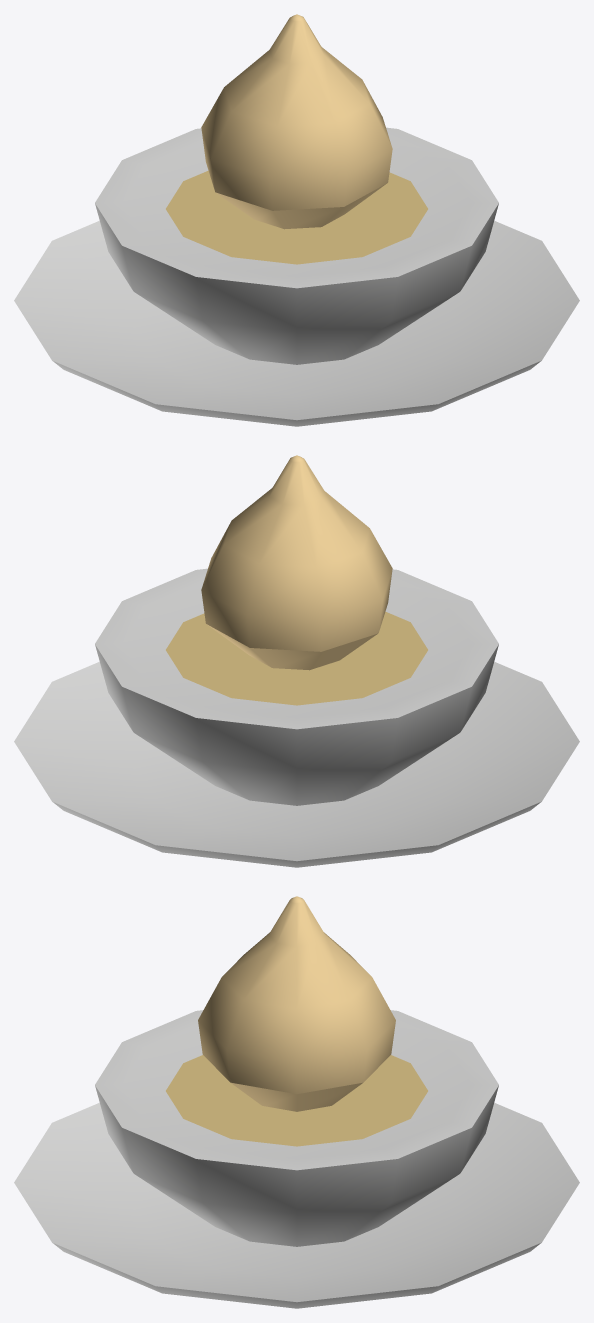
Rendered from kr_icon_soup_onion.glb.
The picture shows the model from 3 angles, top to bottom: view 1: azimuth 30°, elevation 25°; view 2: azimuth 150°, elevation 25°; view 3: azimuth 270°, elevation 25°; orthographic projection.
Parts seen in each view (by area): view 1: vc_m0_r2, vc_m0_r4; view 2: vc_m0_r2, vc_m0_r4; view 3: vc_m0_r2, vc_m0_r4.
Boxes of the visible parts, box(x1,y1,x2,y2) form: vc_m0_r2: box(14, 127, 579, 426); vc_m0_r4: box(201, 14, 392, 229); vc_m0_r2: box(14, 568, 579, 867); vc_m0_r4: box(201, 455, 392, 670); vc_m0_r2: box(14, 1010, 579, 1308); vc_m0_r4: box(198, 896, 395, 1111).
Bounding box in the file's own units: 0.42 × 0.2745 × 0.42.
